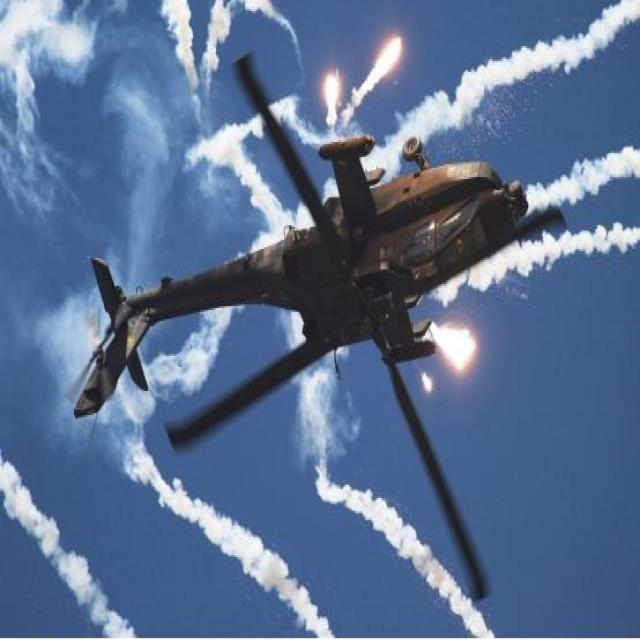MIL_HELO: (63, 54, 571, 597)
